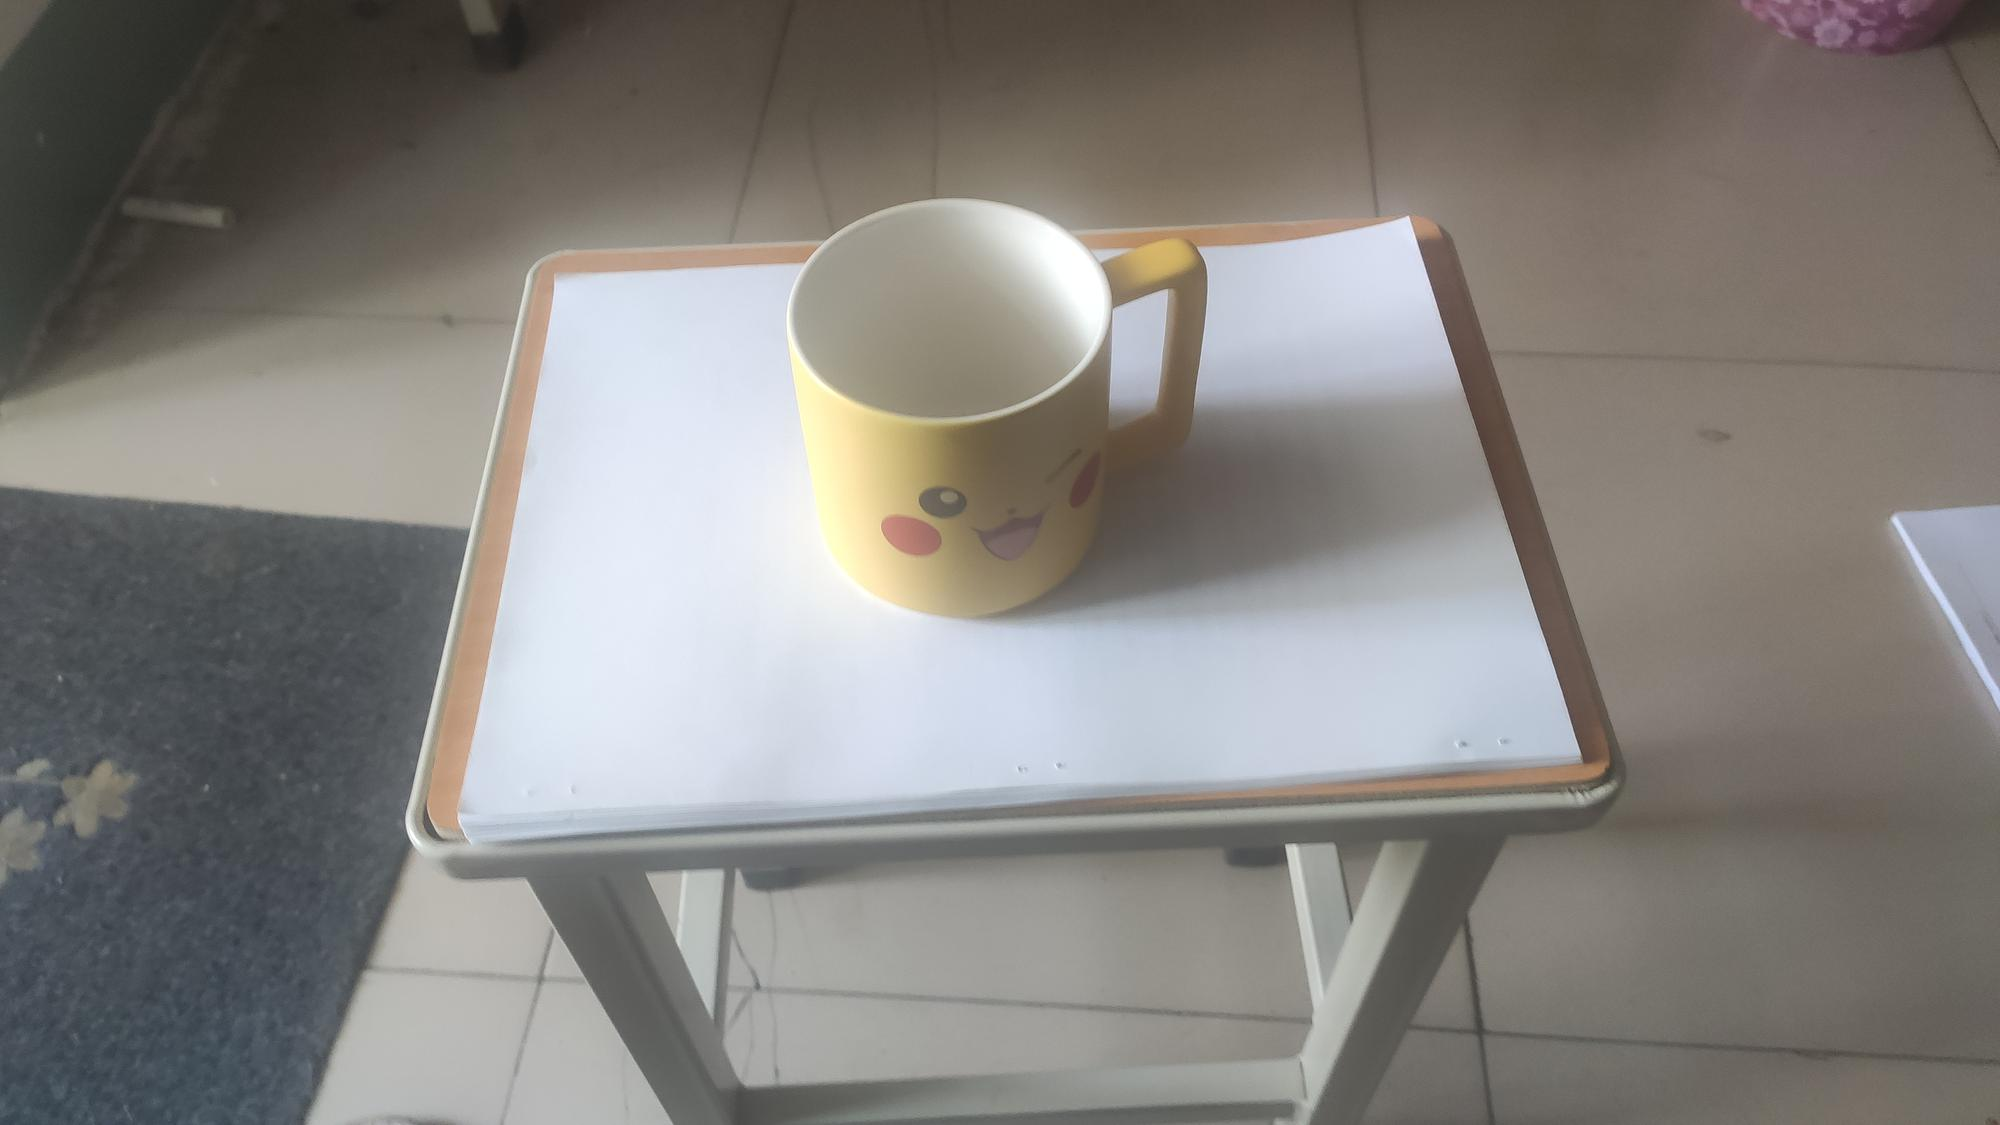cup: (777, 209, 1206, 613)
